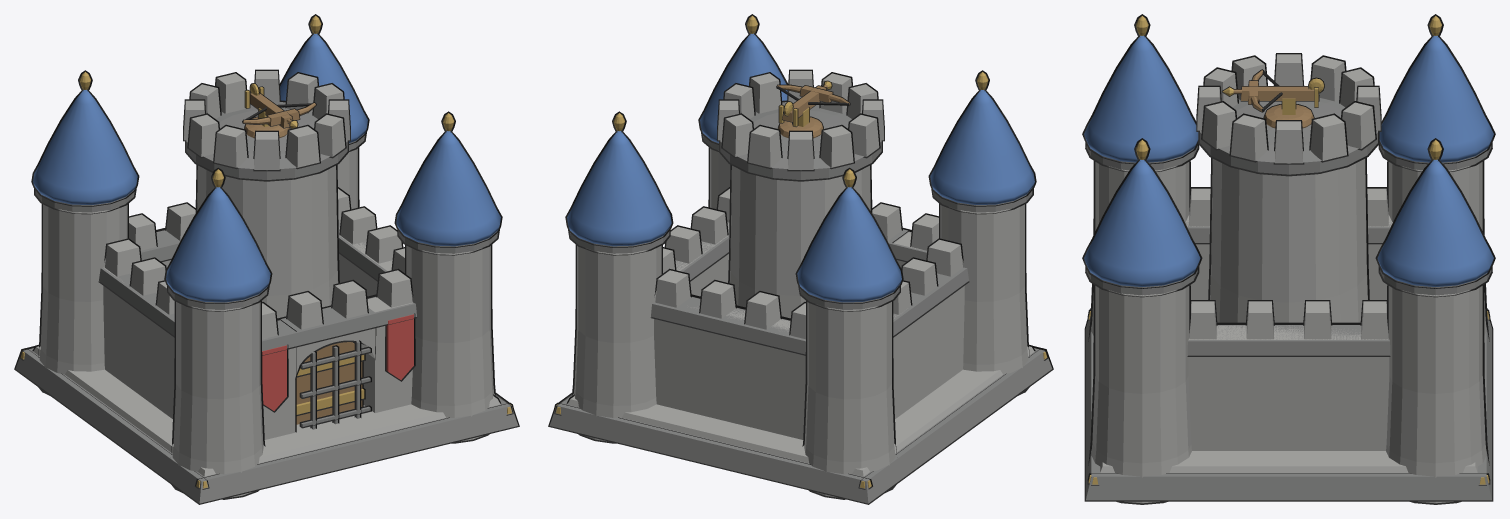
File: Tier2_Castle.fbx
The picture shows the model from 3 angles, left to right: view 1: azimuth 30°, elevation 25°; view 2: azimuth 150°, elevation 25°; view 3: azimuth 270°, elevation 25°; orthographic projection. The views are drawn at different scales.
Visible parts, largest first — view 1: Prop_CastleT2, Prop_BallistaT2; view 2: Prop_CastleT2, Prop_BallistaT2; view 3: Prop_CastleT2, Prop_BallistaT2.
Boxes of the visible parts, box(x1,y1,x2,y2) form: Prop_CastleT2: box(14, 14, 519, 504); Prop_BallistaT2: box(242, 83, 316, 138); Prop_CastleT2: box(548, 14, 1053, 504); Prop_BallistaT2: box(776, 80, 850, 138); Prop_CastleT2: box(1082, 14, 1495, 504); Prop_BallistaT2: box(1221, 69, 1324, 128).
Bounding box in the file's own units: 440 × 407 × 440.
